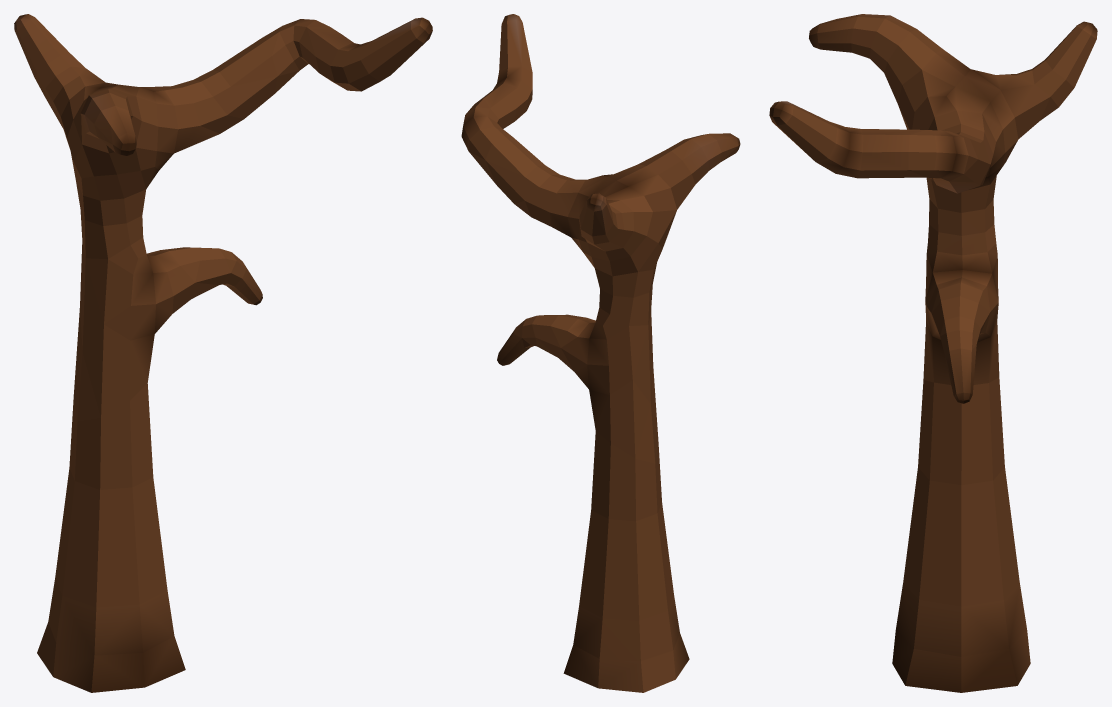
File: Trees_Desert03.fbx
3 renders of one model, left to right at view 1: azimuth 30°, elevation 25°; view 2: azimuth 150°, elevation 25°; view 3: azimuth 270°, elevation 25°, orthographic. The views are drawn at different scales.
Parts seen in each view (by area): view 1: Trees_Desert03_LOD0; view 2: Trees_Desert03_LOD0; view 3: Trees_Desert03_LOD0.
Boxes of the visible parts, box(x1,y1,x2,y2) form: Trees_Desert03_LOD0: box(14, 14, 432, 692); Trees_Desert03_LOD0: box(461, 14, 740, 692); Trees_Desert03_LOD0: box(769, 14, 1097, 692).
Size of what is drawn, in the model's own units: 197 by 412 by 182.
